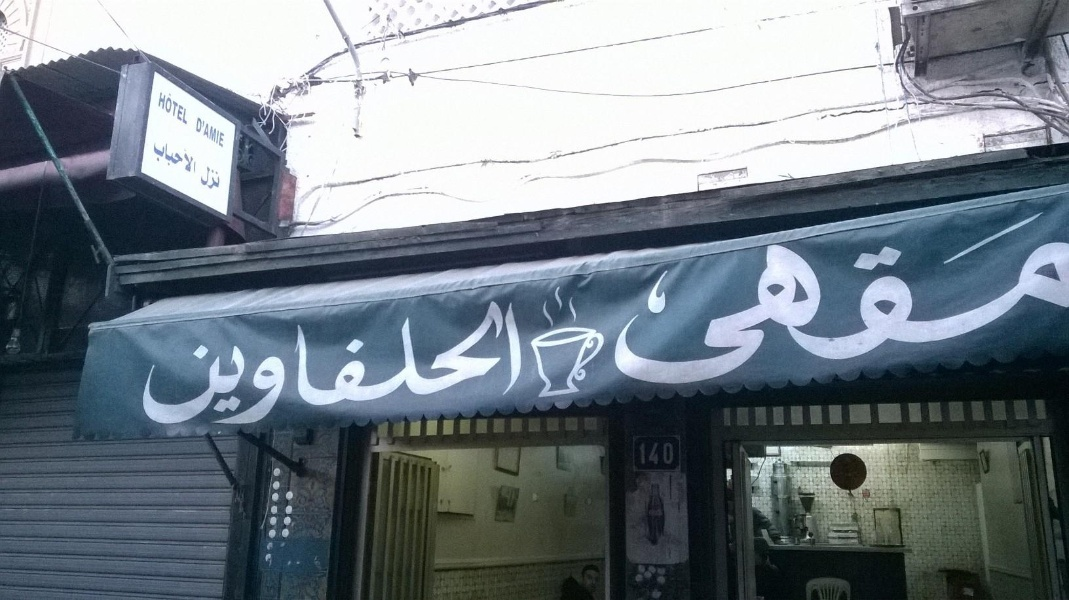text: (625, 193, 640, 397), (641, 193, 656, 397), (657, 193, 672, 397), (673, 193, 688, 397), (689, 193, 704, 397), (705, 193, 720, 397), (721, 193, 736, 397), (737, 193, 752, 397), (753, 193, 768, 397), (769, 193, 784, 397), (785, 193, 800, 397), (801, 193, 816, 397), (817, 193, 832, 397), (833, 193, 848, 397), (849, 193, 864, 397), (865, 193, 880, 397), (881, 193, 896, 397), (897, 193, 912, 397), (913, 193, 928, 397), (929, 193, 944, 397), (945, 193, 960, 397), (961, 193, 976, 397), (977, 193, 992, 397), (993, 193, 1008, 397), (1009, 193, 1024, 397), (1025, 193, 1040, 397), (1041, 193, 1056, 397), (1057, 193, 1069, 397), (145, 296, 160, 439), (161, 296, 176, 439), (177, 296, 192, 439), (193, 296, 208, 439), (209, 296, 224, 439), (225, 296, 240, 439), (241, 296, 256, 439), (257, 296, 272, 439), (273, 296, 288, 439), (289, 296, 304, 439), (305, 296, 320, 439), (321, 296, 336, 439), (337, 296, 352, 439), (353, 296, 368, 439), (369, 296, 384, 439), (385, 296, 400, 439), (401, 296, 416, 439), (417, 296, 432, 439), (433, 296, 448, 439), (449, 296, 464, 439), (465, 296, 480, 439), (481, 296, 496, 439), (497, 296, 512, 439), (513, 296, 526, 439), (161, 132, 176, 183), (177, 132, 192, 183), (177, 86, 193, 127), (161, 86, 176, 127), (209, 115, 224, 149), (641, 441, 656, 467), (657, 441, 672, 467), (209, 167, 223, 194), (197, 115, 208, 149), (155, 132, 160, 183), (193, 132, 198, 183), (623, 193, 624, 397), (143, 296, 144, 439), (673, 441, 676, 467), (206, 167, 208, 194), (638, 441, 640, 467), (225, 115, 226, 149)
